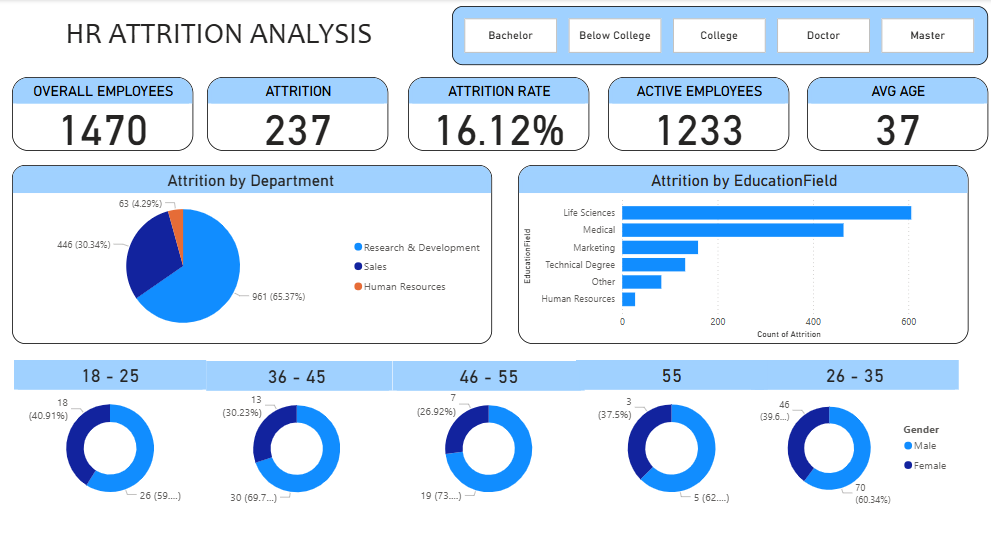

The dashboard page shown, as its layout file describes it:
{"tool":"powerbi","page":{"name":"TIKTOKINSPIRED","canvas":[1280,720],"ordinal":3},"visuals":[{"type":"advancedSlicerVisual","fields":{"Values":["EmployeeTable.Education Level"]},"box":[581.2,8.8,688.8,76.2],"z":0},{"type":"card","title":"OVERALL EMPLOYEES","fields":{"Values":["CountNonNull(EmployeeTable.EmployeeCount)"]},"box":[15,100,232.5,95],"z":1000},{"type":"card","title":"ATTRITION","fields":{"Values":["EmployeeTable.Attrition Count"]},"box":[266.2,100,232.5,95],"z":2000},{"type":"card","title":"ATTRITION RATE","fields":{"Values":["EmployeeTable.Attrition Rate"]},"box":[523.8,100,232.5,95],"z":3000},{"type":"card","title":"ACTIVE EMPLOYEES","fields":{"Values":["EmployeeTable.Active Employees"]},"box":[781.2,100,232.5,95],"z":4000},{"type":"card","title":"AVG AGE","fields":{"Values":["EmployeeTable.Average Age"]},"box":[1037.5,100,232.5,95],"z":5000},{"type":"pieChart","title":"Attrition by Department","fields":{"Category":["EmployeeTable.Department"],"Y":["CountNonNull(EmployeeTable.Attrition)"]},"box":[15.2,213.4,616.8,229.8],"z":6000},{"type":"barChart","title":"Attrition by EducationField","fields":{"Category":["EmployeeTable.EducationField"],"Y":["CountNonNull(EmployeeTable.Attrition)"]},"box":[666.1,213.4,579.3,229.8],"z":7000},{"type":"donutChart","title":"36 - 45","fields":{"Category":["EmployeeTable.Gender"],"Y":["EmployeeTable.Attrition Count"]},"box":[258.4,464.8,246.4,193.1],"z":8000},{"type":"donutChart","title":"46 - 55","fields":{"Category":["EmployeeTable.Gender"],"Y":["EmployeeTable.Attrition Count"]},"box":[504.8,464.8,246.4,193.1],"z":9000},{"type":"donutChart","title":"18 - 25","fields":{"Category":["EmployeeTable.Gender"],"Y":["EmployeeTable.Attrition Count"]},"box":[18.6,464.3,247.1,194.3],"z":10000},{"type":"donutChart","title":"26 - 35","fields":{"Category":["EmployeeTable.Gender"],"Y":["EmployeeTable.Attrition Count"]},"box":[965.7,464.3,267.1,194.3],"z":11000},{"type":"donutChart","title":"55","fields":{"Category":["EmployeeTable.Gender"],"Y":["EmployeeTable.Attrition Count"]},"box":[740,464.3,245.7,194.3],"z":12000},{"type":"textbox","box":[14.7,9.3,534.1,75.9],"z":13000}]}

Visuals, with their boxes in screenshot pixels (x1, y1, x2, y2), scaled from the page's 1280x720 canvas onto the 991x553 screenshot:
advancedSlicerVisual - EmployeeTable.Education Level: [x1=450, y1=7, x2=983, y2=65]
"OVERALL EMPLOYEES" card: [x1=12, y1=77, x2=192, y2=150]
"ATTRITION" card: [x1=206, y1=77, x2=386, y2=150]
"ATTRITION RATE" card: [x1=406, y1=77, x2=586, y2=150]
"ACTIVE EMPLOYEES" card: [x1=605, y1=77, x2=785, y2=150]
"AVG AGE" card: [x1=803, y1=77, x2=983, y2=150]
"Attrition by Department" pieChart: [x1=12, y1=164, x2=489, y2=340]
"Attrition by EducationField" barChart: [x1=516, y1=164, x2=964, y2=340]
"36 - 45" donutChart: [x1=200, y1=357, x2=391, y2=505]
"46 - 55" donutChart: [x1=391, y1=357, x2=582, y2=505]
"18 - 25" donutChart: [x1=14, y1=357, x2=206, y2=506]
"26 - 35" donutChart: [x1=748, y1=357, x2=954, y2=506]
"55" donutChart: [x1=573, y1=357, x2=763, y2=506]
textbox: [x1=11, y1=7, x2=425, y2=65]
